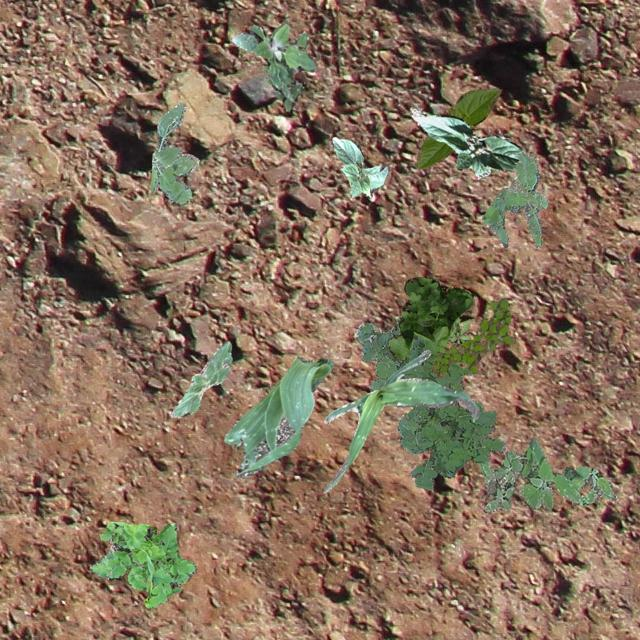crop: (323, 350, 478, 490), (222, 356, 332, 478), (410, 108, 524, 178), (416, 88, 500, 168), (170, 341, 230, 416), (332, 136, 388, 198)
weed: (354, 314, 506, 488), (478, 438, 616, 511), (88, 520, 195, 606), (230, 21, 316, 110), (386, 276, 474, 360), (429, 298, 514, 377), (481, 152, 546, 246), (150, 101, 198, 202), (446, 316, 468, 344)
